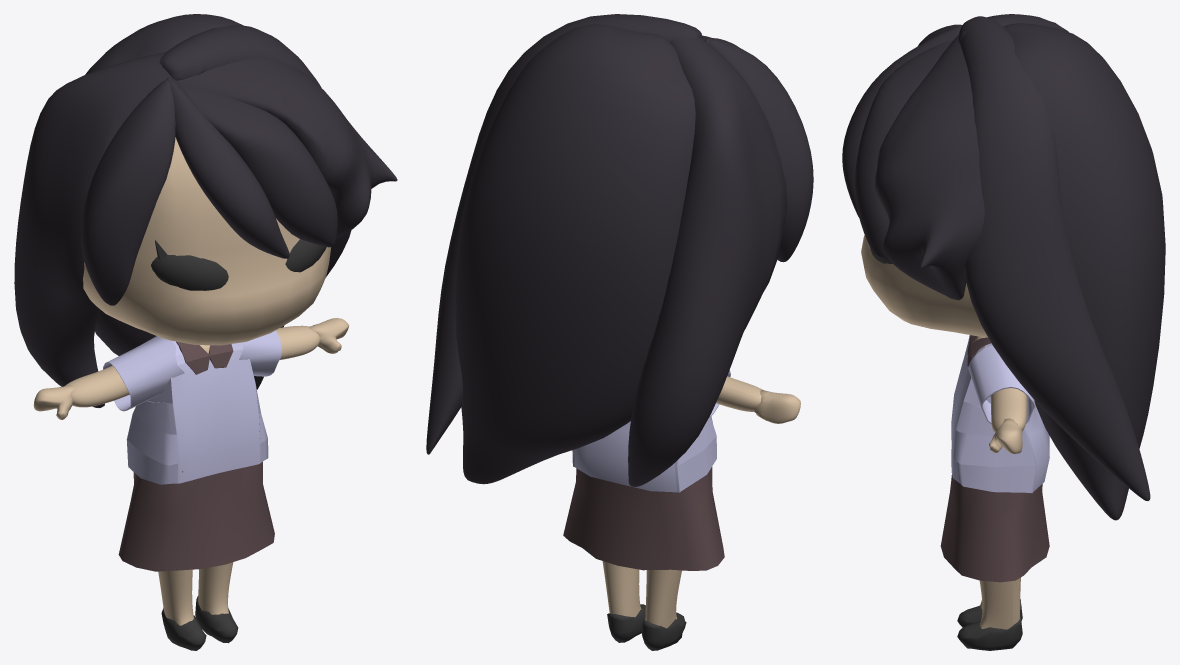
3 views of the same model, side by side, from view 1: azimuth 30°, elevation 25°; view 2: azimuth 150°, elevation 25°; view 3: azimuth 270°, elevation 25° (orthographic). The views are drawn at different scales.
Visible parts, largest first — view 1: Hair1, pasted__Collar2; view 2: Hair1, pasted__Collar2; view 3: Hair1, pasted__Collar2.
Part boxes in pixels (x1,y1,x2,y2): Hair1: (14,14,397,407); pasted__Collar2: (33,137,349,650); Hair1: (426,14,813,486); pasted__Collar2: (563,370,800,650); Hair1: (842,14,1165,520); pasted__Collar2: (861,235,1049,650).
Bounding box in the file's own units: 2.99 × 5.36 × 2.58.
